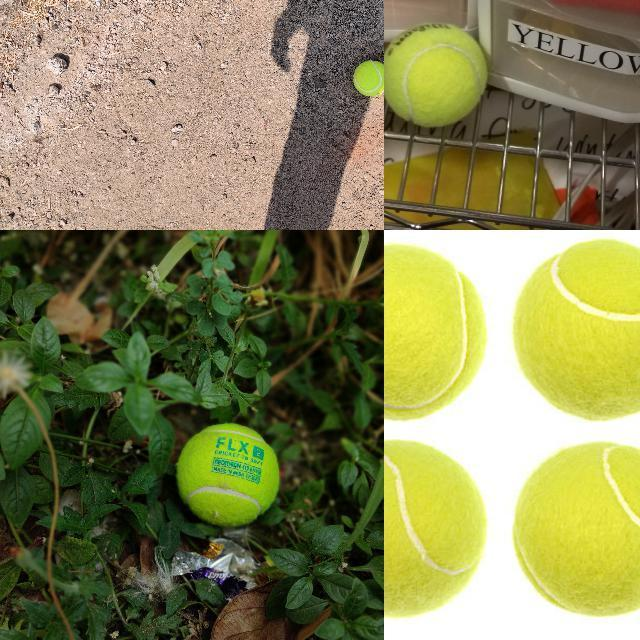tennis-ball: (511, 239, 639, 421), (510, 441, 639, 618), (384, 438, 486, 619), (384, 245, 488, 422), (384, 22, 491, 131), (176, 423, 278, 525), (352, 60, 383, 96)
